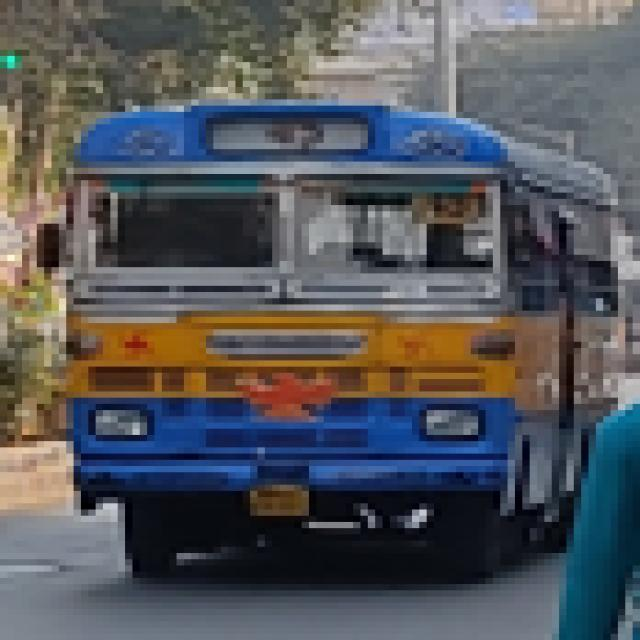bus: (61, 92, 628, 578)
